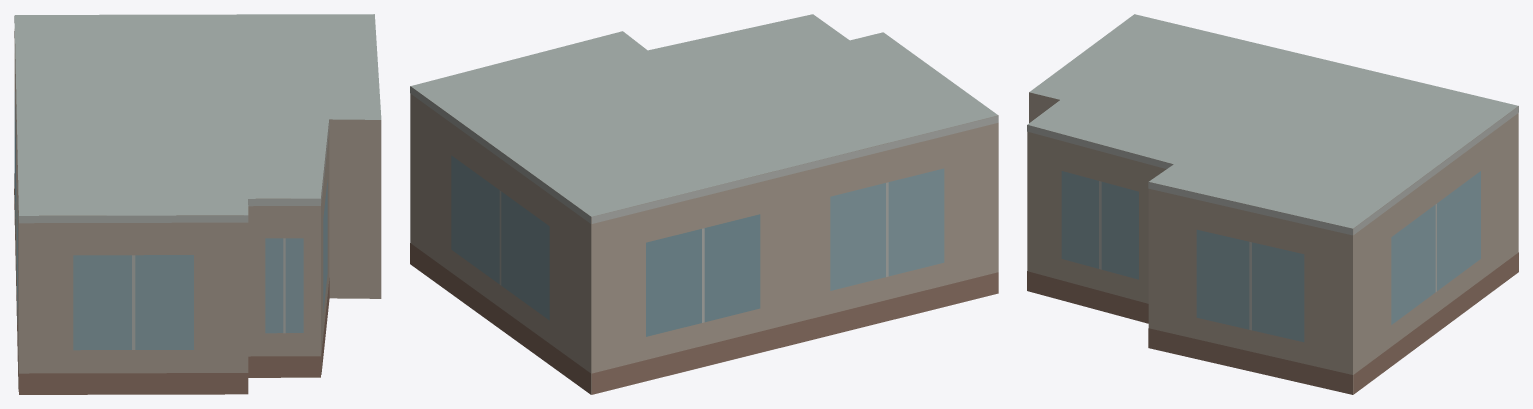
The model's file is survey-upis-32828538.glb.
3 renders of one model, left to right at view 1: azimuth 30°, elevation 25°; view 2: azimuth 150°, elevation 25°; view 3: azimuth 270°, elevation 25°, orthographic. The views are drawn at different scales.
Parts seen in each view (by area): view 1: survey-upis-32828538.tmp; view 2: survey-upis-32828538.tmp; view 3: survey-upis-32828538.tmp.
Part boxes in pixels (bbox=[...]): survey-upis-32828538.tmp: bbox=[14, 14, 381, 394]; survey-upis-32828538.tmp: bbox=[410, 14, 998, 394]; survey-upis-32828538.tmp: bbox=[1027, 14, 1518, 394].
Size of the model in its own units: 8.46 by 3.05 by 8.18.
